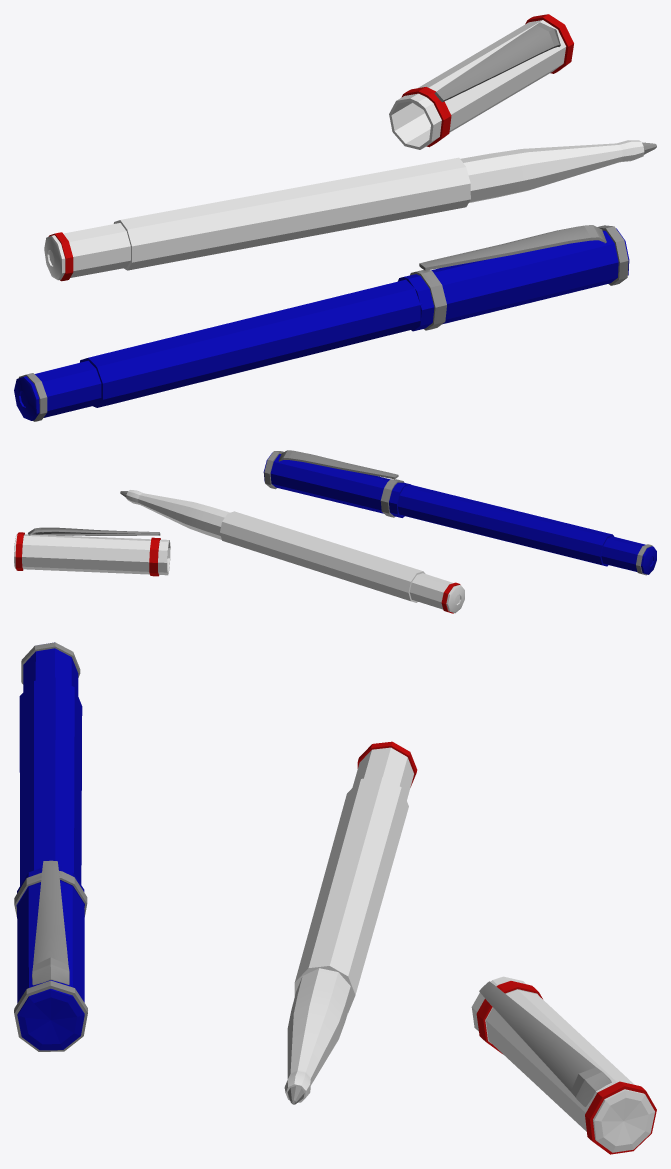
File: fbxPen.fbx
3 views of the same model, one above another, from view 1: azimuth 30°, elevation 25°; view 2: azimuth 150°, elevation 25°; view 3: azimuth 270°, elevation 25° (orthographic). The views are drawn at different scales.
Visible parts, largest first — view 1: pen1, pen:pen1, pen:tap, tap; view 2: pen1, pen:pen1, tap, pen:tap; view 3: pen1, tap, pen:pen1, pen:tap.
Part boxes in pixels (left/top/right/bottom): pen1: left=44, top=140, right=656, bottom=281; pen:pen1: left=14, top=279, right=422, bottom=421; pen:tap: left=398, top=225, right=629, bottom=331; tap: left=389, top=14, right=573, bottom=149; pen1: left=120, top=490, right=464, bottom=613; pen:pen1: left=397, top=484, right=656, bottom=575; tap: left=14, top=527, right=170, bottom=576; pen:tap: left=263, top=450, right=410, bottom=517; pen1: left=284, top=741, right=417, bottom=1104; tap: left=471, top=976, right=656, bottom=1154; pen:pen1: left=19, top=642, right=82, bottom=886; pen:tap: left=14, top=860, right=87, bottom=1051.
Size of the model in its own units: 2.1 by 0.1645 by 1.23.
